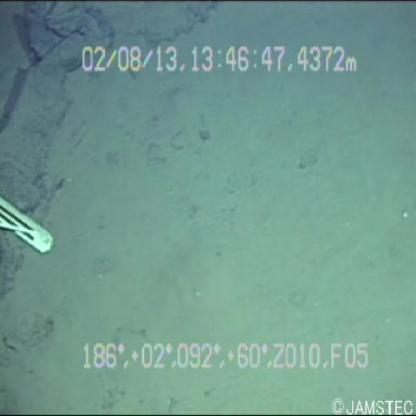Rác: (1, 179, 67, 261)
